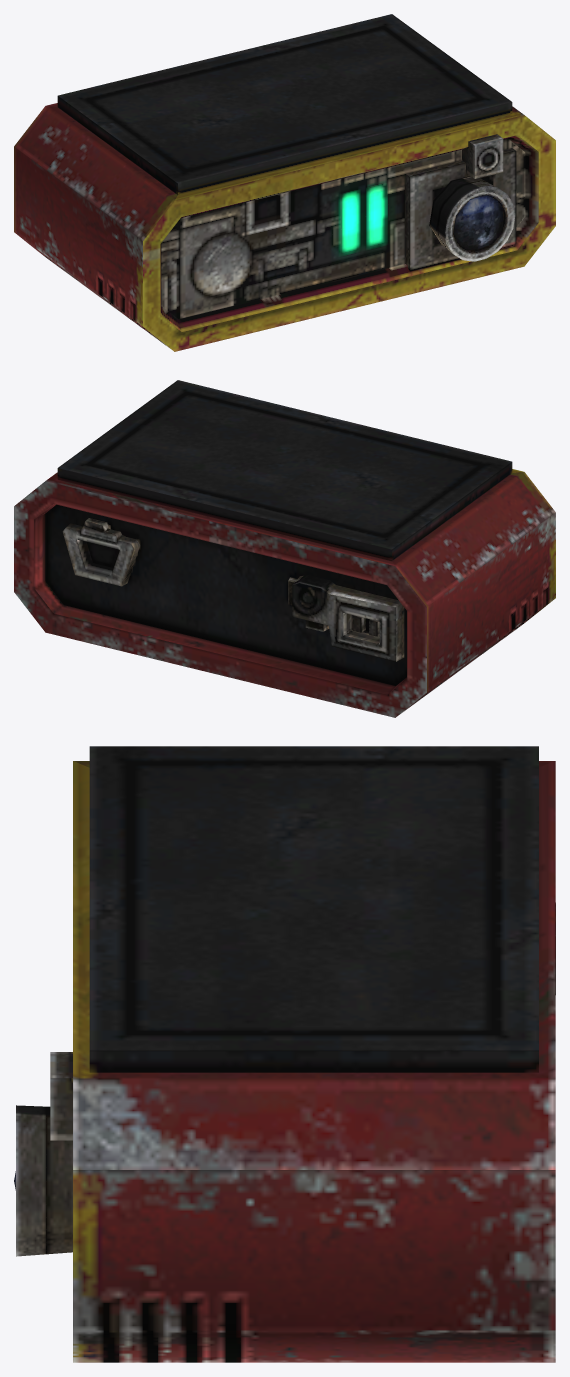
File: computer_ark_room_02.DAE
3 views of the same model, one above another, from view 1: azimuth 30°, elevation 25°; view 2: azimuth 150°, elevation 25°; view 3: azimuth 270°, elevation 25° (orthographic). The views are drawn at different scales.
Visible parts, largest first — view 1: computer_ark_room_02; view 2: computer_ark_room_02; view 3: computer_ark_room_02.
Part boxes in pixels (x1,y1,x2,y2): computer_ark_room_02: [14, 14, 555, 351]; computer_ark_room_02: [14, 380, 555, 717]; computer_ark_room_02: [14, 746, 555, 1362].
Bounding box in the file's own units: 39.74 × 24.19 × 17.5.
